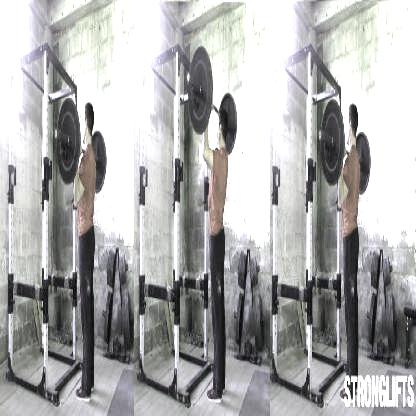Barbell: (184, 59, 206, 112), (317, 117, 339, 164), (52, 115, 73, 158)
